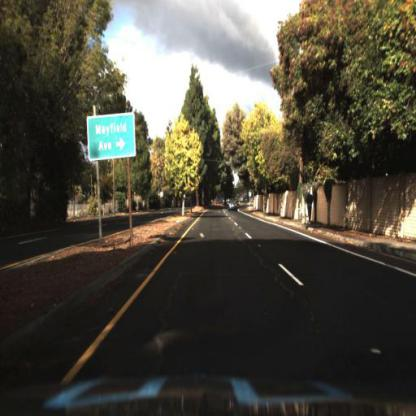car: (229, 201, 239, 214)
pedestrian: (306, 191, 315, 227)
